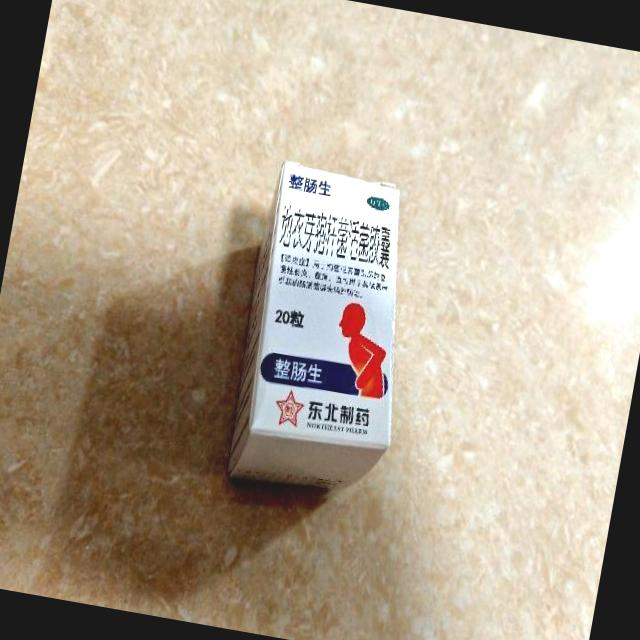box: (218, 158, 436, 504)
